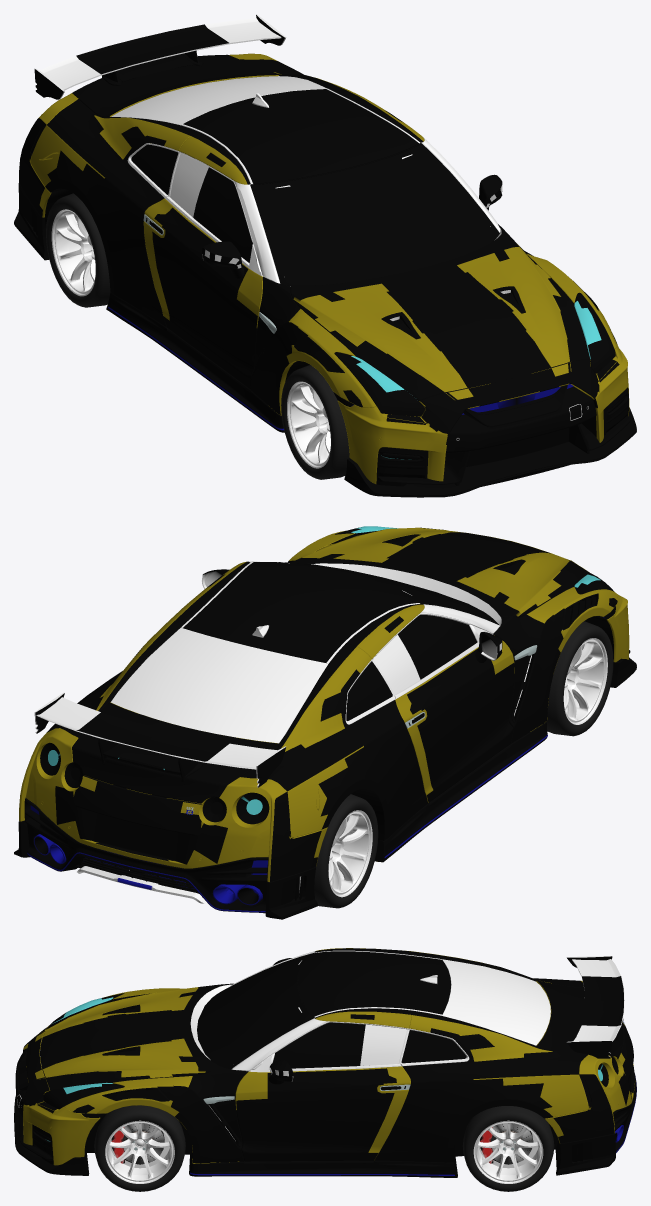
File: GTR.fbx
3 renders of one model, top to bottom at view 1: azimuth 30°, elevation 25°; view 2: azimuth 150°, elevation 25°; view 3: azimuth 270°, elevation 25°, orthographic. The views are drawn at different scales.
Visible parts, largest first — view 1: Main Body, Base, glassf_a002, MainWing, glasslf_a001, Object221, Object222, glassr_a, skirtl_a001, Headlight Glass001, A pillar, Headlight Glass (+3 smaller); view 2: Main Body, glassr_a, MainWing, Object023, glasslf_a001, Object221, Object222, skirtl_a001, TailLight Glass, Cowl, Base, glassf_a002 (+7 smaller); view 3: Main Body, glassf_a002, Base, glasslf_a, glassr_a, Object219, Object220, skirtl_a, MainWing, Object023, FLDiscBrake, A pillar (+7 smaller).
Part boxes in pixels (x1,y1,x2,y2): Main Body: [19, 53, 617, 415]; Base: [337, 345, 636, 497]; glassf_a002: [250, 143, 499, 285]; MainWing: [34, 14, 286, 99]; glasslf_a001: [131, 144, 252, 262]; Object221: [281, 364, 349, 479]; Object222: [46, 193, 110, 307]; glassr_a: [111, 76, 327, 125]; skirtl_a001: [106, 292, 284, 432]; Headlight Glass001: [334, 352, 424, 416]; A pillar: [234, 136, 500, 283]; Headlight Glass: [574, 292, 615, 373]; Main Body: [19, 527, 617, 881]; glassr_a: [111, 628, 328, 743]; MainWing: [34, 692, 285, 787]; Object023: [14, 798, 318, 919]; glasslf_a001: [346, 615, 477, 720]; Object221: [546, 621, 613, 736]; Object222: [314, 794, 378, 908]; skirtl_a001: [376, 721, 547, 862]; TailLight Glass: [40, 742, 269, 824]; Cowl: [277, 562, 501, 625]; Base: [445, 530, 636, 687]; glassf_a002: [253, 562, 498, 624]; Main Body: [40, 948, 635, 1163]; glassf_a002: [197, 953, 313, 1069]; Base: [14, 1025, 100, 1175]; glasslf_a: [272, 1022, 466, 1068]; glassr_a: [442, 959, 550, 1045]; Object219: [94, 1105, 185, 1191]; Object220: [462, 1106, 554, 1191]; skirtl_a: [189, 1160, 457, 1177]; MainWing: [566, 956, 624, 1058]; Object023: [556, 1074, 636, 1175]; FLDiscBrake: [111, 1123, 533, 1164]; A pillar: [230, 951, 327, 1071].
Bounding box in the file's own units: 2.01 × 1.38 × 4.69.
